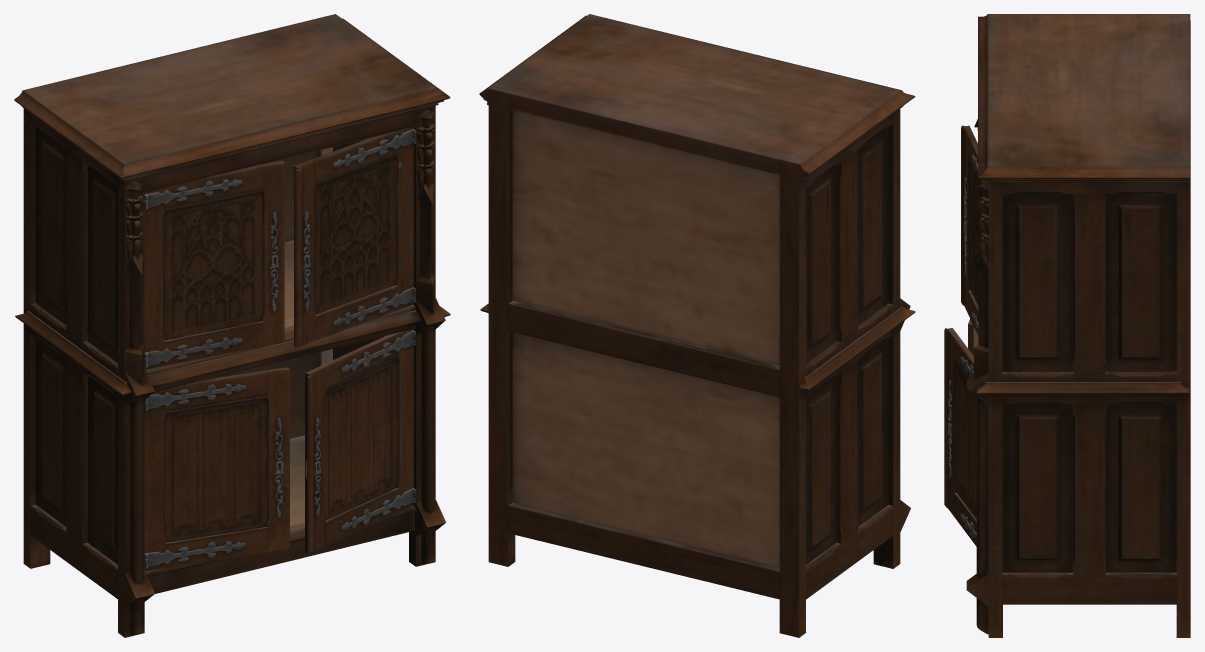
Rendered from GothicCabinet_01_1k.gltf.
3 views of the same model, side by side, from view 1: azimuth 30°, elevation 25°; view 2: azimuth 150°, elevation 25°; view 3: azimuth 270°, elevation 25° (orthographic).
Visible parts, largest first — view 1: GothicCabinet_01_cabinet, GothicCabinet_01_door3, GothicCabinet_01_door1, GothicCabinet_01_door2, GothicCabinet_01_door4; view 2: GothicCabinet_01_cabinet; view 3: GothicCabinet_01_cabinet, GothicCabinet_01_door4, GothicCabinet_01_door2.
Boxes of the visible parts, x1,y1,x2,y2 form: GothicCabinet_01_cabinet: (14,14,450,637); GothicCabinet_01_door3: (144,367,289,571); GothicCabinet_01_door1: (144,160,284,369); GothicCabinet_01_door2: (294,127,415,347); GothicCabinet_01_door4: (305,329,415,554); GothicCabinet_01_cabinet: (479,14,915,637); GothicCabinet_01_cabinet: (966,14,1190,637); GothicCabinet_01_door4: (944,328,976,546); GothicCabinet_01_door2: (961,125,986,335).
Bounding box in the file's own units: 1.72 × 2.36 × 1.12.
1 material, 1 textured.
